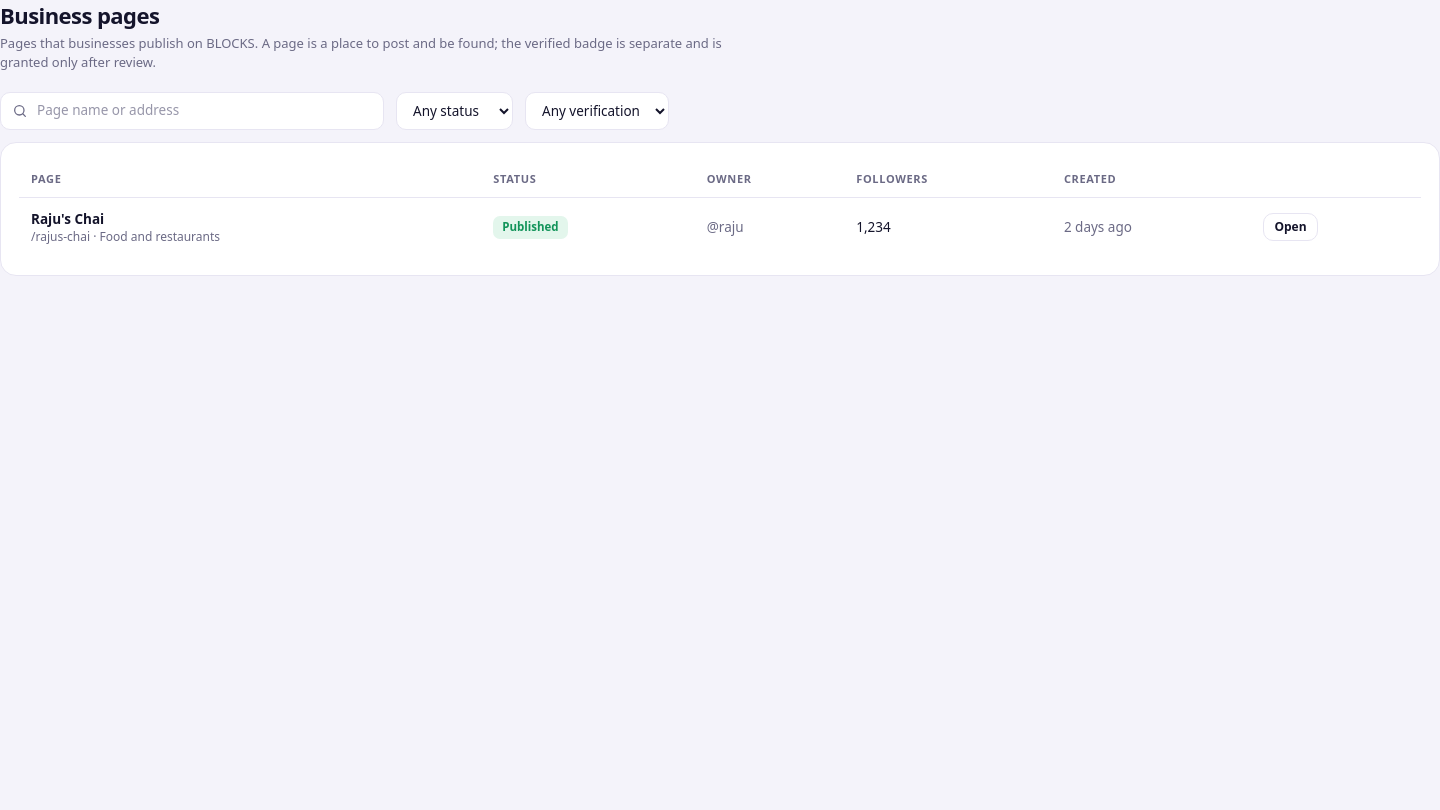
it: business pages › says a registration number is not checked against the register
What coordinates should you click on to do the following:
click the button with aria-label "Open Raju"
I would click on:
 (1291, 227)
Its box is top-left (1264, 213), bottom-right (1318, 241).
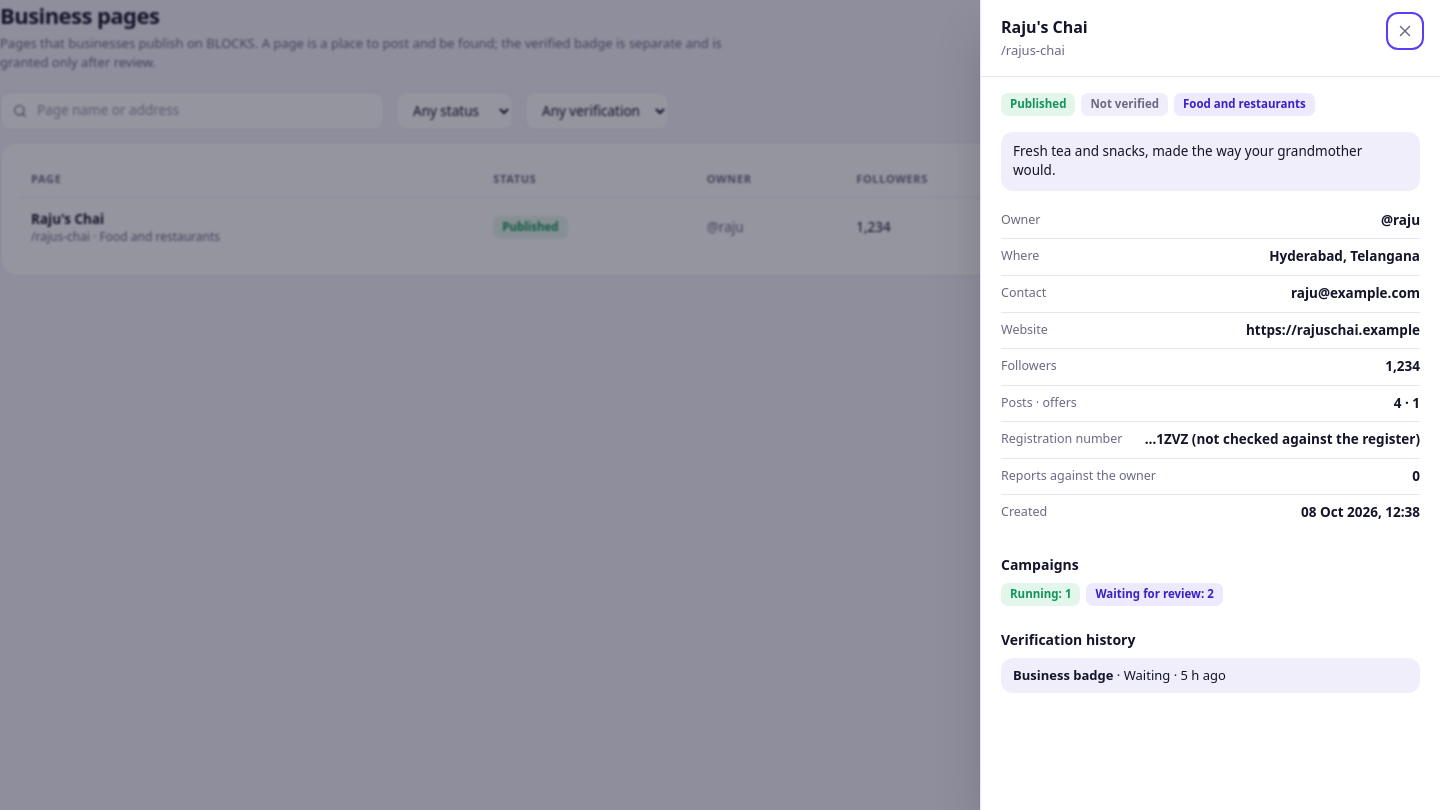
Expected: the dialog "Raju's Chai" is shown, top-left (980, 0), bottom-right (1439, 809)
Expected: the text "…1ZVZ (not checked against the register)" is shown, top-left (1145, 430), bottom-right (1420, 450)
